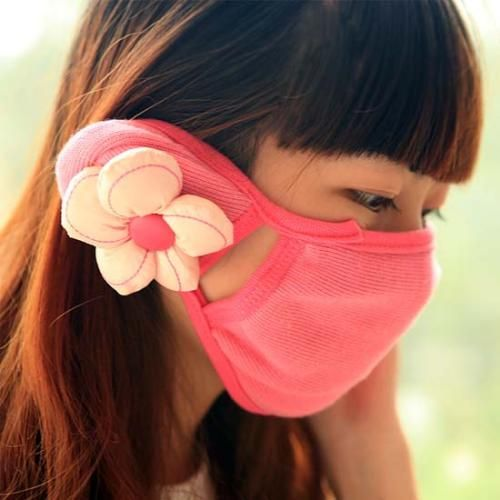face_mask: (231, 59, 457, 386)
